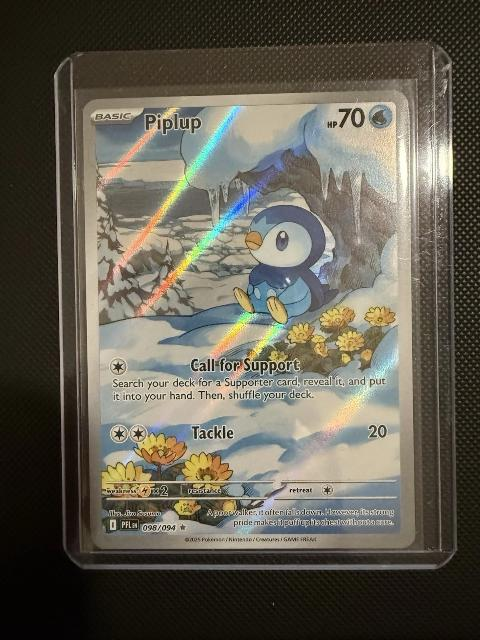Card: (78, 85, 421, 553)
Name: (138, 108, 205, 139)
